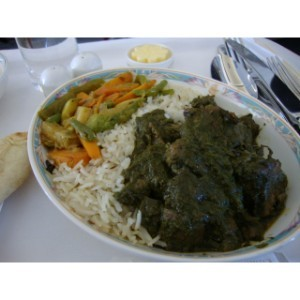spinach_brain food: (130, 100, 278, 236)
